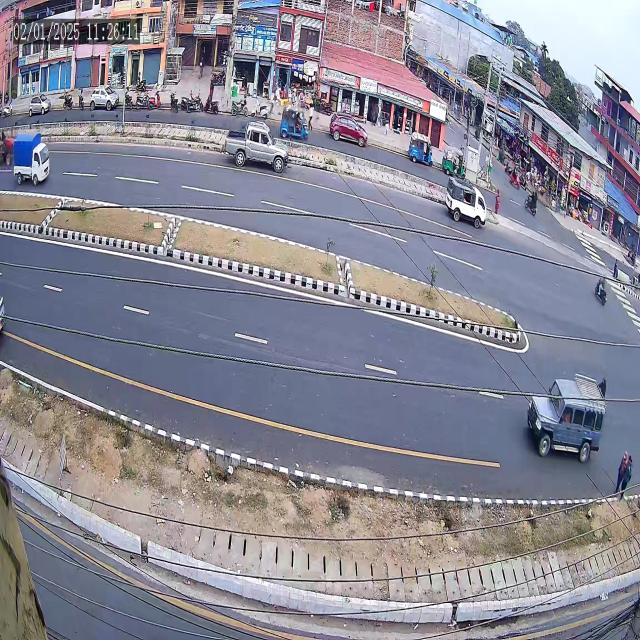motorcycle: (588, 264, 614, 311)
